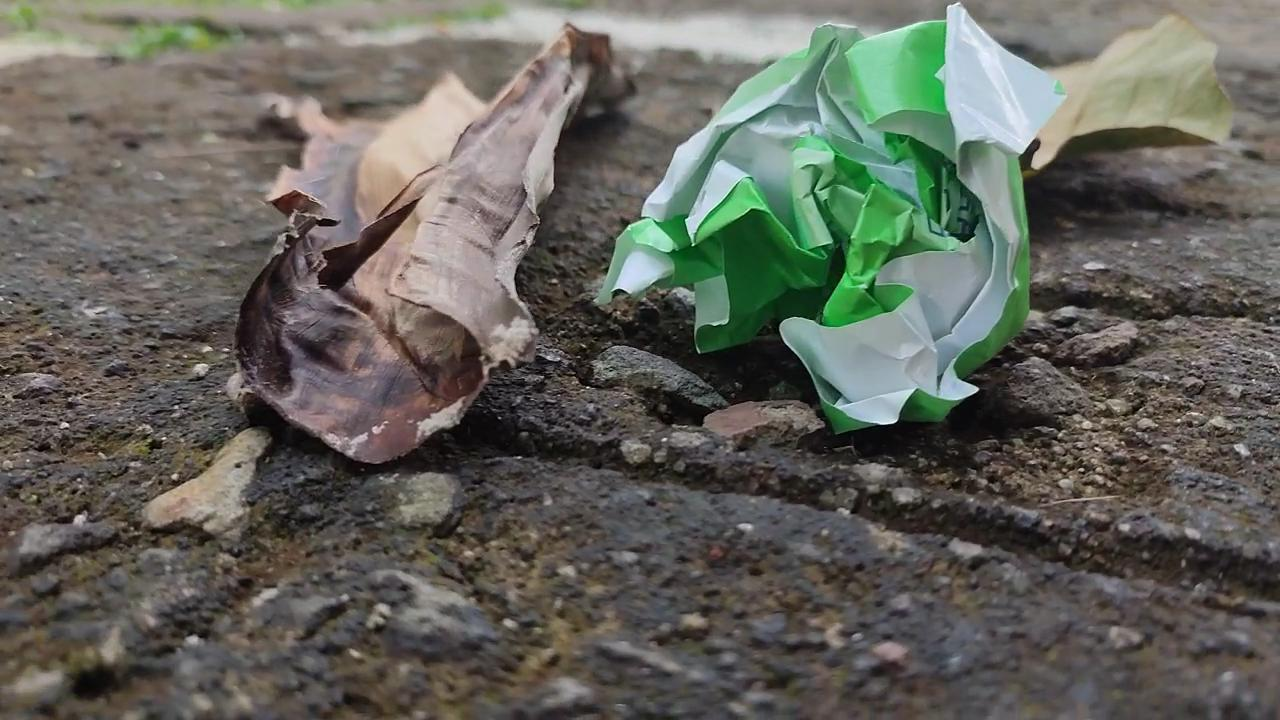Paper: (596, 0, 1056, 475)
